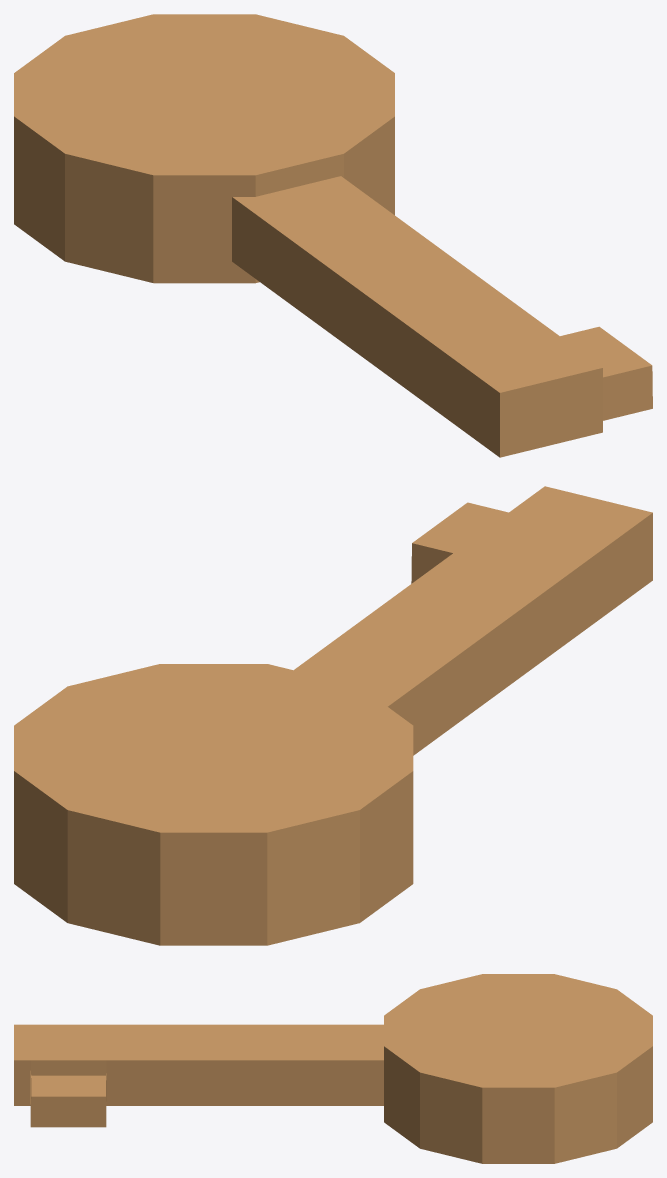
The model's file is Chave.gltf.
3 views of the same model, one above another, from view 1: azimuth 30°, elevation 25°; view 2: azimuth 150°, elevation 25°; view 3: azimuth 270°, elevation 25° (orthographic). The views are drawn at different scales.
Visible parts, largest first — view 1: cylinder; view 2: cylinder; view 3: cylinder.
Boxes of the visible parts, box(x1,y1,x2,y2) form: cylinder: box(14, 14, 652, 457); cylinder: box(14, 486, 652, 945); cylinder: box(14, 974, 652, 1163).
Bounding box in the file's own units: 1 × 0.3125 × 2.38.
Materials: 1 (1 with a texture image).
